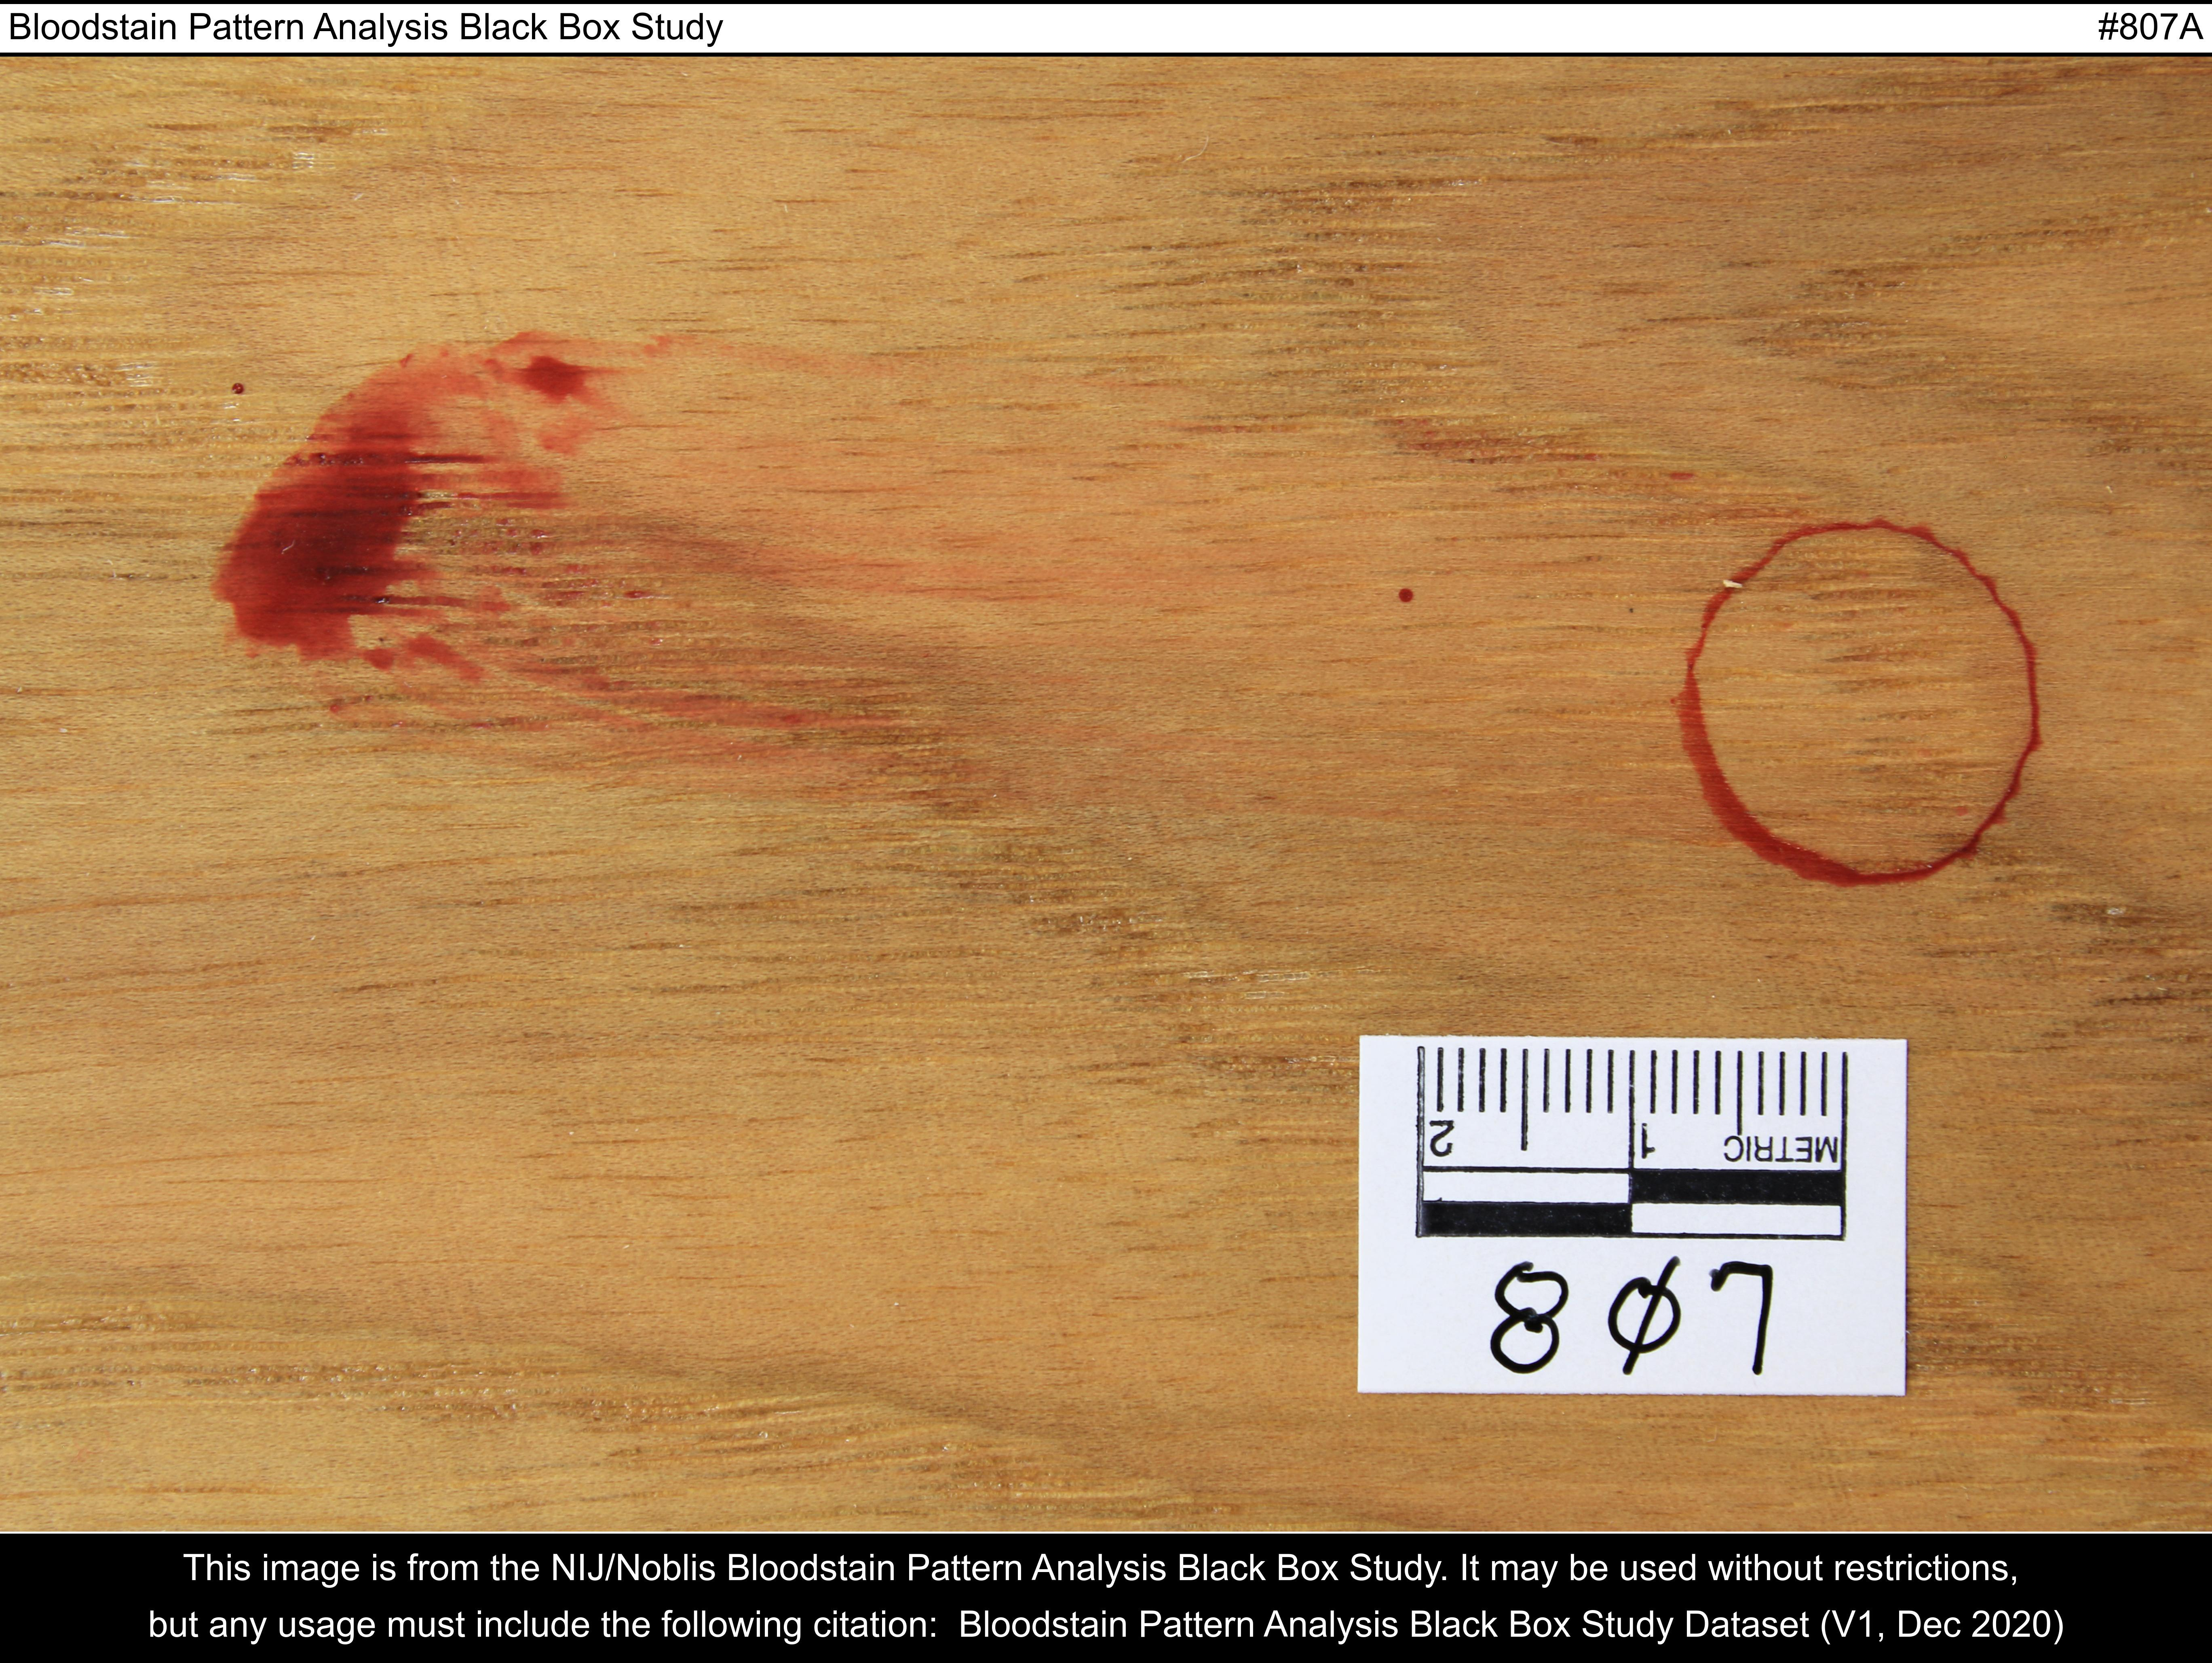Transfer: (98, 278, 2126, 926)
